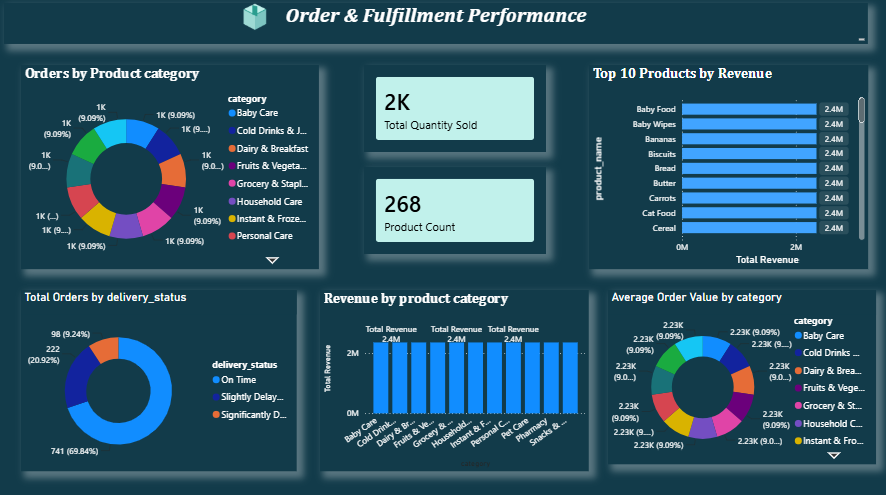

Layout of this report page (visuals, bound fields, positions):
{"tool":"powerbi","page":{"name":"Order & Fulfillment performance","canvas":[1280,720],"ordinal":1},"visuals":[{"type":"textbox","title":"Order & Fulfillment Performance","box":[17.3,15.8,1243.9,58.5],"z":0},{"type":"clusteredColumnChart","title":" Revenue by product  category","fields":{"Category":["microfulfilliq blinkit_products.category"],"Y":["microfulfilliq blinkit_orders.Total Revenue"]},"box":[460.8,423.4,387.4,260.6],"z":1000},{"type":"clusteredBarChart","title":"Top 10 Products by Revenue","fields":{"Category":["microfulfilliq blinkit_products.product_name"],"Y":["microfulfilliq blinkit_orders.Total Revenue"]},"box":[848.2,99.4,401.8,293.8],"z":2000},{"type":"donutChart","title":"Orders by Product  category","fields":{"Category":["microfulfilliq blinkit_products.category"],"Y":["microfulfilliq blinkit_orders.Total Orders"]},"box":[30.2,99.4,429,294],"z":3000},{"type":"donutChart","fields":{"Category":["microfulfilliq blinkit_products.category"],"Y":["microfulfilliq blinkit_orders.Average Order Value"]},"box":[875.5,423.4,385.9,250.6],"z":4000},{"type":"cardVisual","fields":{"Data":["microfulfilliq blinkit_products.Product Count"]},"box":[524.2,246.2,262.1,125.3],"z":5000},{"type":"cardVisual","fields":{"Data":["microfulfilliq blinkit_order_items.Total Quantity Sold"]},"box":[524.2,99.4,262.1,125.3],"z":6000},{"type":"donutChart","fields":{"Category":["microfulfilliq blinkit_orders.delivery_status"],"Y":["microfulfilliq blinkit_orders.Total Orders"]},"box":[30.2,423.4,397.4,260.6],"z":7000},{"type":"image","box":[283.7,0,155.5,86.4],"z":7001}]}

Visuals, with their boxes in screenshot pixels (x1, y1, x2, y2), scaled from the page's 1280x720 canvas onto the 886x495 screenshot:
"Order & Fulfillment Performance" textbox: x1=12, y1=11, x2=873, y2=51
" Revenue by product  category" clusteredColumnChart: x1=319, y1=291, x2=587, y2=470
"Top 10 Products by Revenue" clusteredBarChart: x1=587, y1=68, x2=865, y2=270
"Orders by Product  category" donutChart: x1=21, y1=68, x2=318, y2=270
donutChart - microfulfilliq blinkit_products.category x microfulfilliq blinkit_orders.Average Order Value: x1=606, y1=291, x2=873, y2=463
cardVisual - microfulfilliq blinkit_products.Product Count: x1=363, y1=169, x2=544, y2=255
cardVisual - microfulfilliq blinkit_order_items.Total Quantity Sold: x1=363, y1=68, x2=544, y2=154
donutChart - microfulfilliq blinkit_orders.delivery_status x microfulfilliq blinkit_orders.Total Orders: x1=21, y1=291, x2=296, y2=470
image: x1=196, y1=0, x2=304, y2=59
